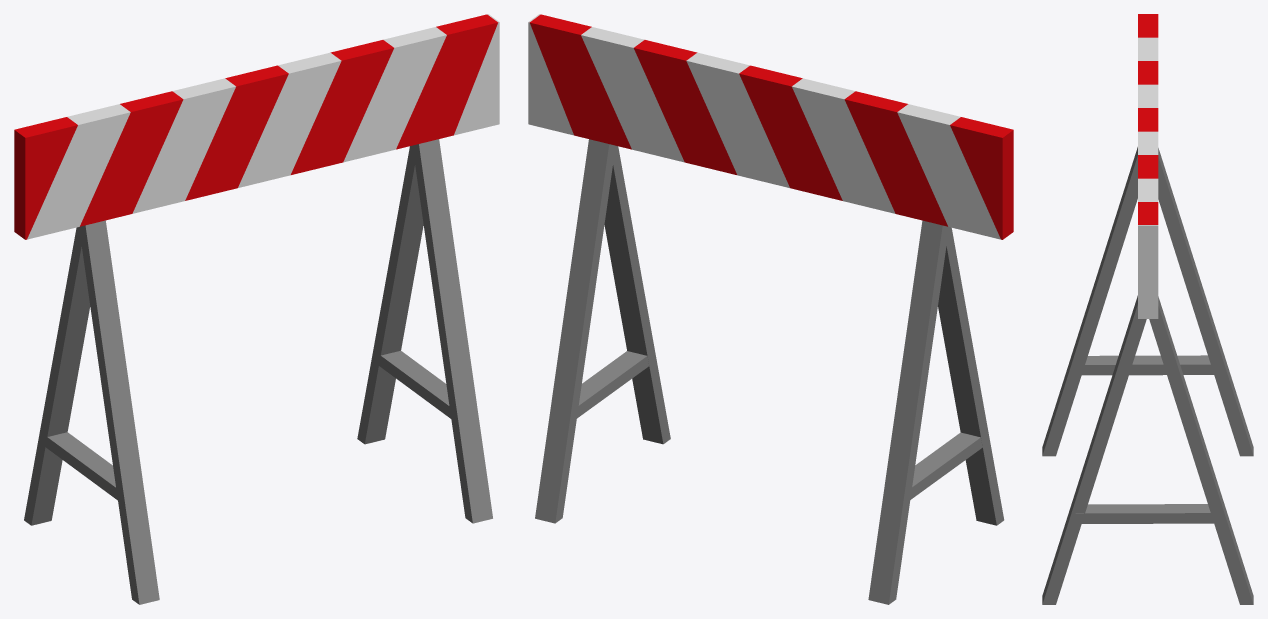
The model's file is MESH_Magazzino_Barriera.fbx.
3 renders of one model, left to right at view 1: azimuth 30°, elevation 25°; view 2: azimuth 150°, elevation 25°; view 3: azimuth 270°, elevation 25°, orthographic. The views are drawn at different scales.
Parts seen in each view (by area): view 1: Barriera; view 2: Barriera; view 3: Barriera.
Boxes of the visible parts, x1,y1,x2,y2 form: Barriera: [14, 14, 499, 604]; Barriera: [528, 14, 1013, 604]; Barriera: [1042, 14, 1253, 604].
Size of the model in its own units: 75.04 by 67.1 by 31.68.
